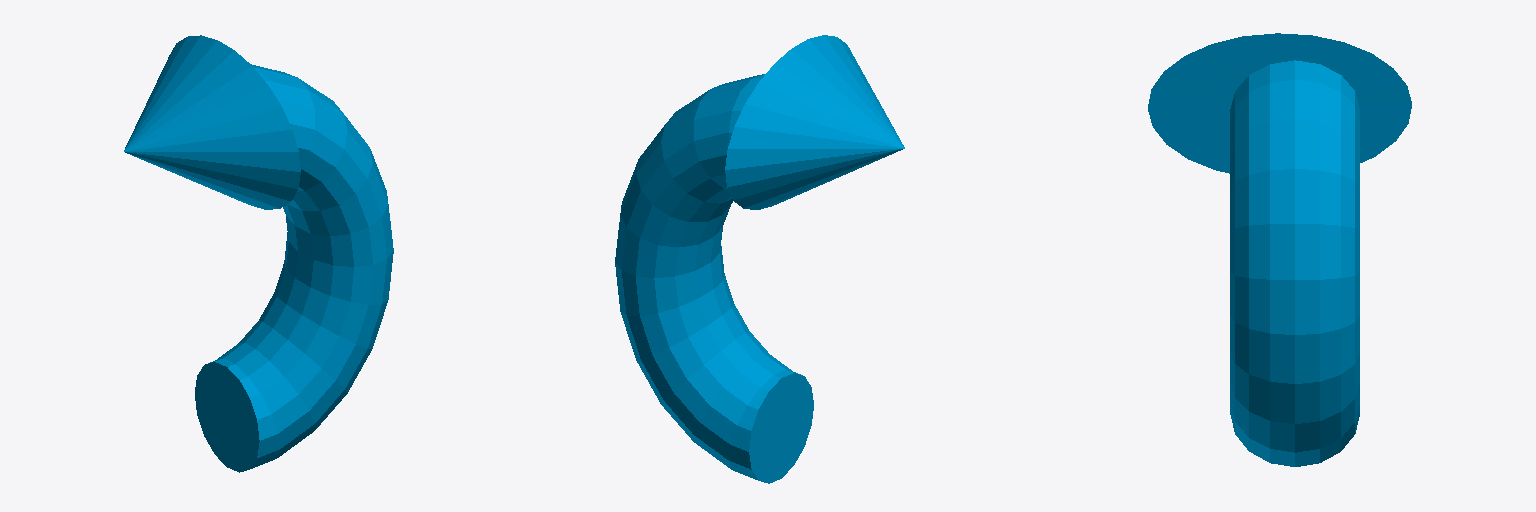
Rendered from Curved Arrow.obj.
The picture shows the model from 3 angles: view 1: azimuth 30°, elevation 25°; view 2: azimuth 150°, elevation 25°; view 3: azimuth 270°, elevation 25°; orthographic projection.
Visible parts, largest first — view 1: obj_0; view 2: obj_0; view 3: obj_0.
Part boxes in pixels (x1,y1,x2,y2): obj_0: (124,35,393,472); obj_0: (615,35,904,483); obj_0: (1148,33,1411,466).
Size of the model in its own units: 20 by 30 by 17.